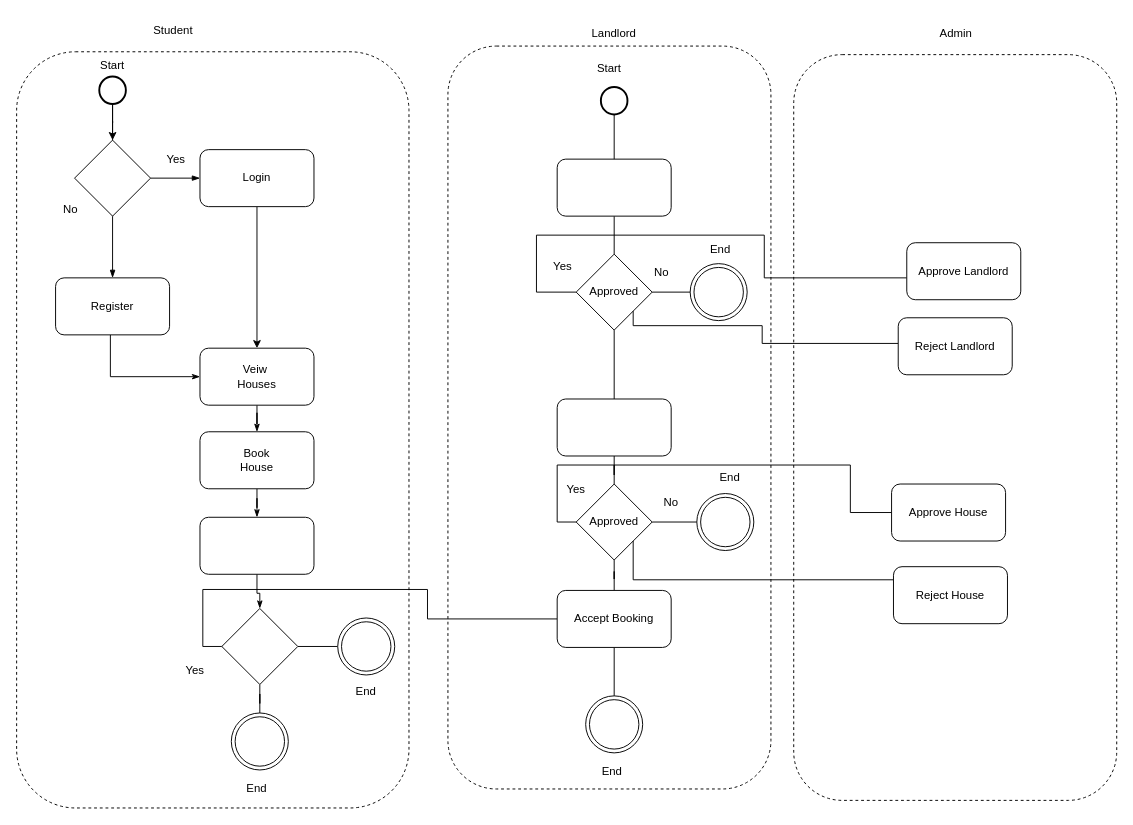
Some shapes in this 1133 by 825 pixel diagram are drawn without their labels. The box of each missing label's shape, as (x1, y1, x2, y2) in pixels:
Accepted: (221, 608, 298, 684)
Add / Edit House: (556, 398, 671, 456)
Create Landlord Account: (556, 158, 671, 216)
Have Profile: (74, 139, 151, 216)
Pay Online: (199, 516, 314, 574)
